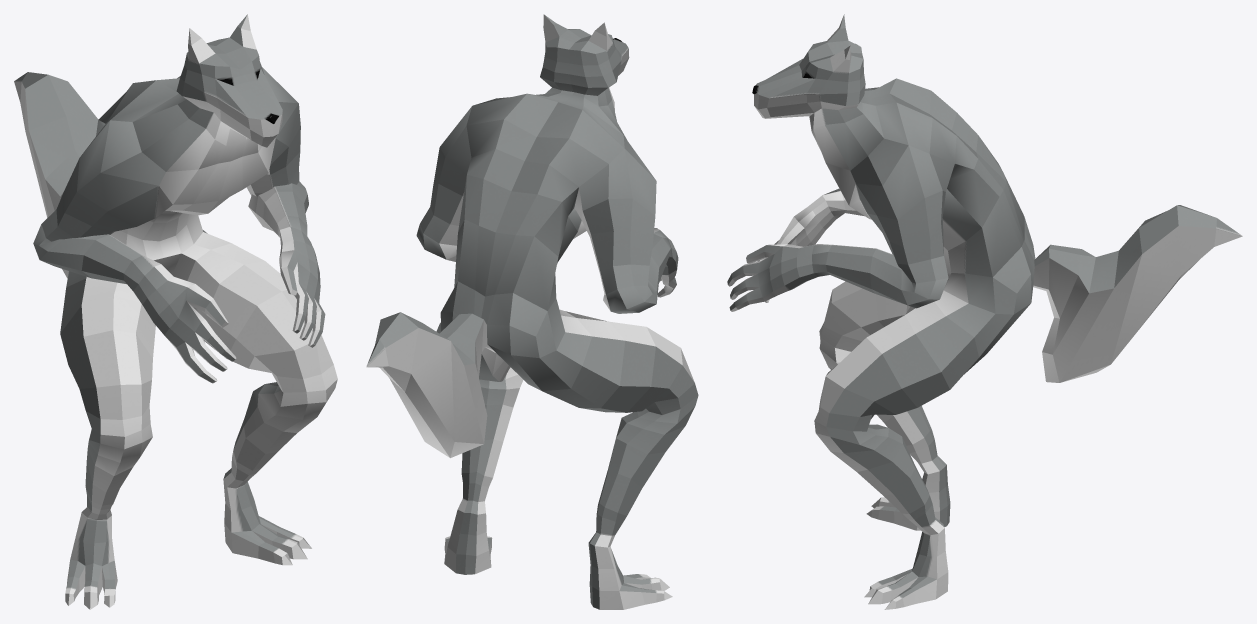
File: WolfIdle_(125).obj
3 views of the same model, side by side, from view 1: azimuth 30°, elevation 25°; view 2: azimuth 150°, elevation 25°; view 3: azimuth 270°, elevation 25° (orthographic). The views are drawn at different scales.
Parts seen in each view (by area): view 1: Box001; view 2: Box001; view 3: Box001.
Boxes of the visible parts, x1,y1,x2,y2 form: Box001: [14, 14, 337, 609]; Box001: [366, 14, 698, 609]; Box001: [727, 14, 1242, 609].
Bounding box in the file's own units: 61.58 × 131 × 115.
